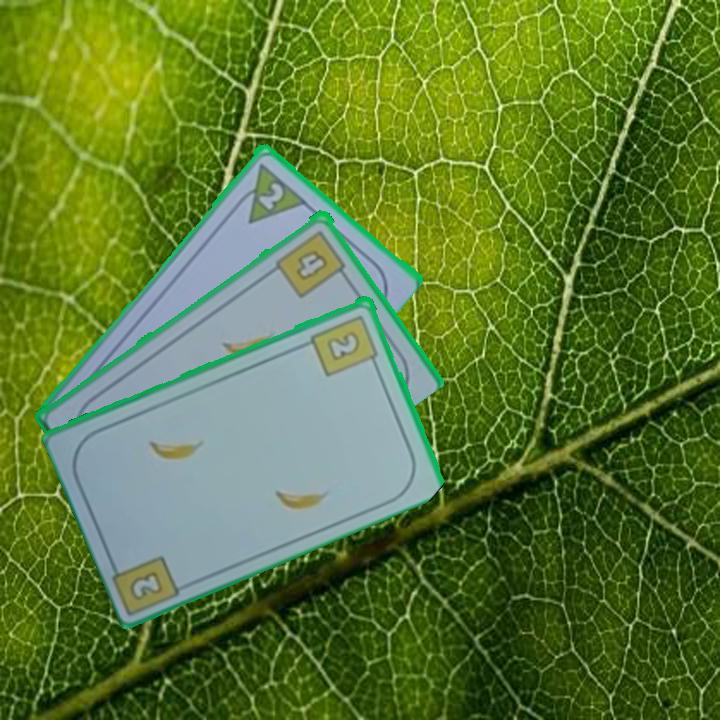2b: (308, 310, 381, 379), (126, 567, 167, 603)
2p: (229, 158, 308, 227)
4b: (272, 226, 351, 301)
